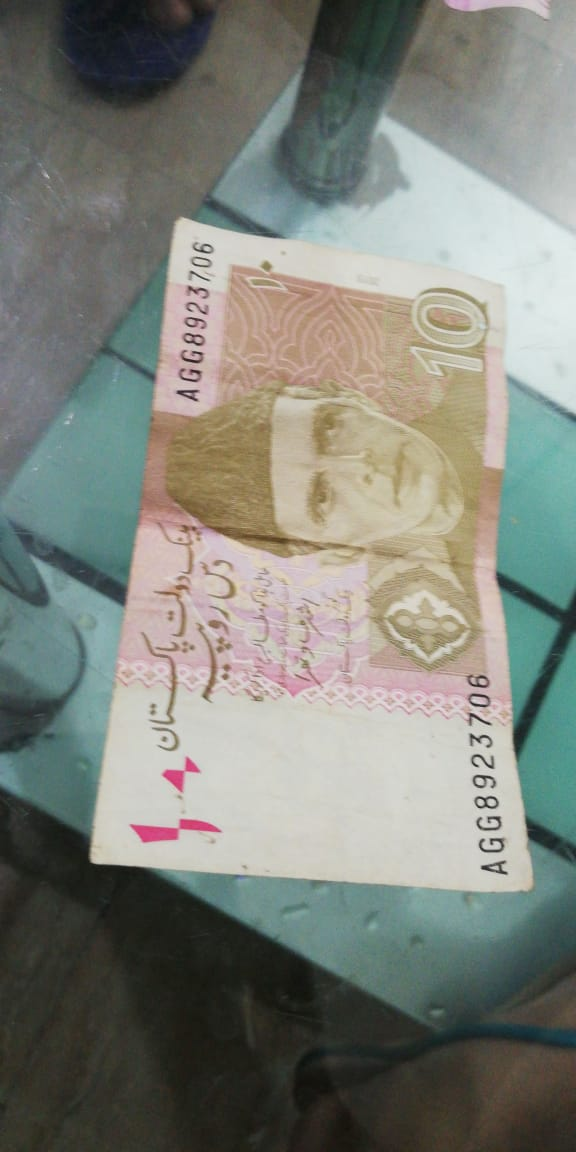10 rupee: (97, 194, 528, 944)
